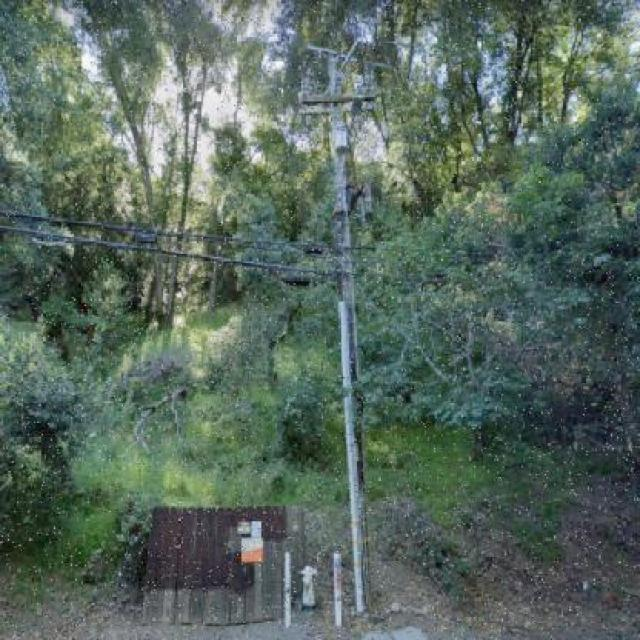crossarm: (300, 94, 377, 114)
pole: (331, 69, 369, 620)
wire: (0, 222, 339, 280), (0, 210, 338, 250)
